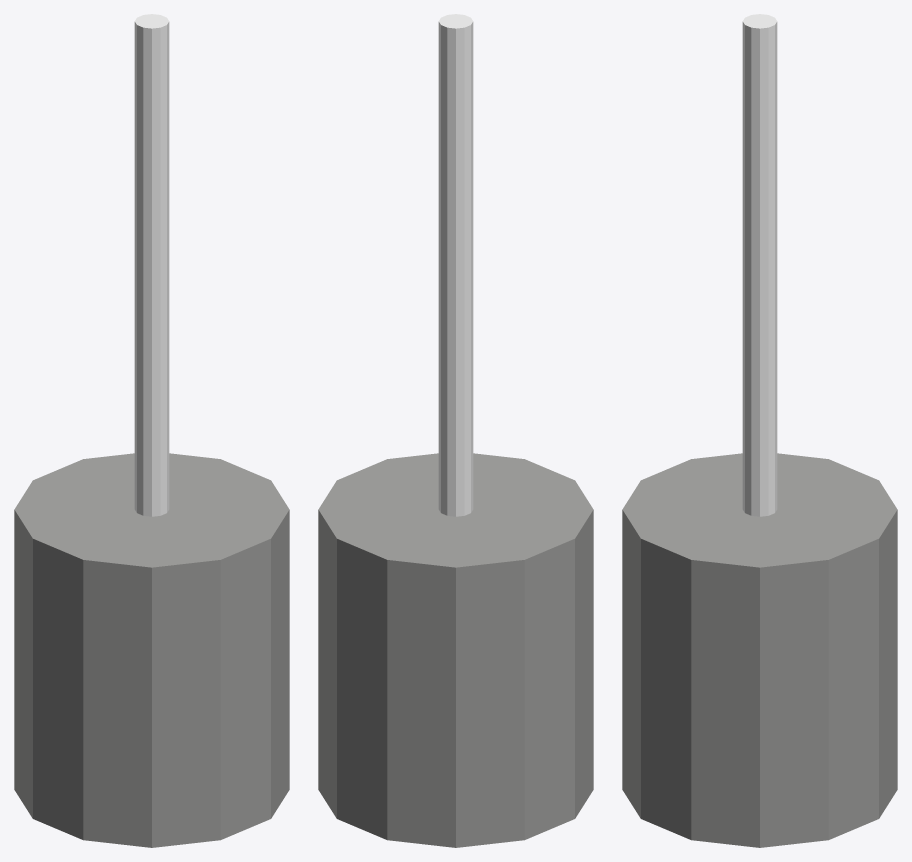
Rendered from cylinder_lighting.fbx.
The picture shows the model from 3 angles, left to right: view 1: azimuth 30°, elevation 25°; view 2: azimuth 150°, elevation 25°; view 3: azimuth 270°, elevation 25°; orthographic projection.
Parts seen in each view (by area): view 1: pCylinder1; view 2: pCylinder1; view 3: pCylinder1.
Part boxes in pixels (left/top/right/bottom): pCylinder1: left=14, top=14, right=289, bottom=847; pCylinder1: left=318, top=14, right=593, bottom=847; pCylinder1: left=622, top=14, right=897, bottom=847.
Bounding box in the file's own units: 30.46 × 93.87 × 30.46.
